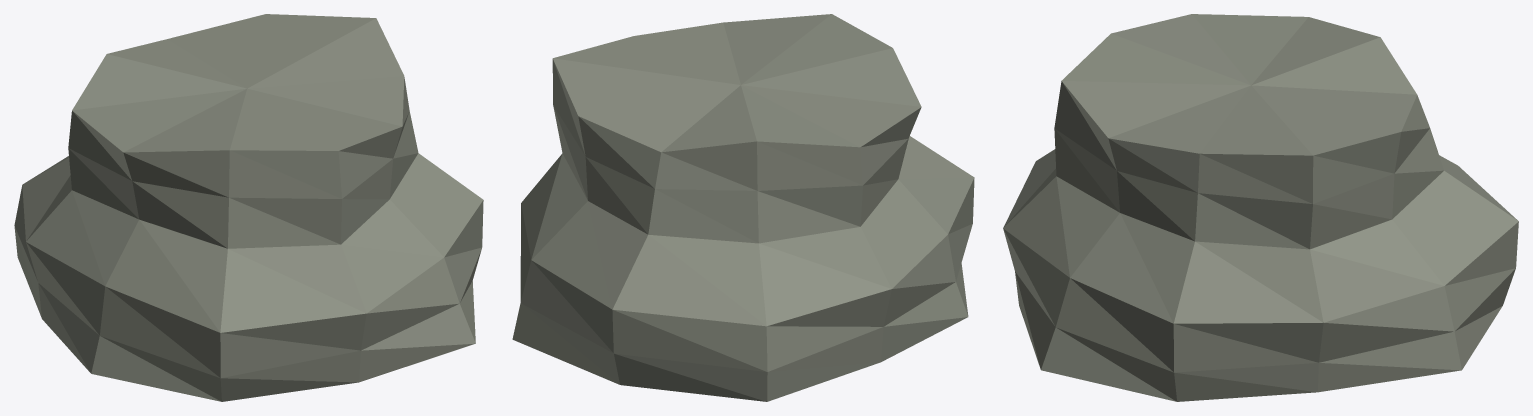
The model's file is visual-far.glb.
3 renders of one model, left to right at view 1: azimuth 30°, elevation 25°; view 2: azimuth 150°, elevation 25°; view 3: azimuth 270°, elevation 25°, orthographic. The views are drawn at different scales.
Parts seen in each view (by area): view 1: 破岩形状与干湿色尺寸族; view 2: 破岩形状与干湿色尺寸族; view 3: 破岩形状与干湿色尺寸族.
Boxes of the visible parts, box(x1,y1,x2,y2) form: 破岩形状与干湿色尺寸族: box(14, 14, 483, 401); 破岩形状与干湿色尺寸族: box(512, 14, 974, 401); 破岩形状与干湿色尺寸族: box(1003, 14, 1518, 401).
Bounding box in the file's own units: 6.75 × 3.86 × 7.42.
Materials: 2 (2 with a texture image).
